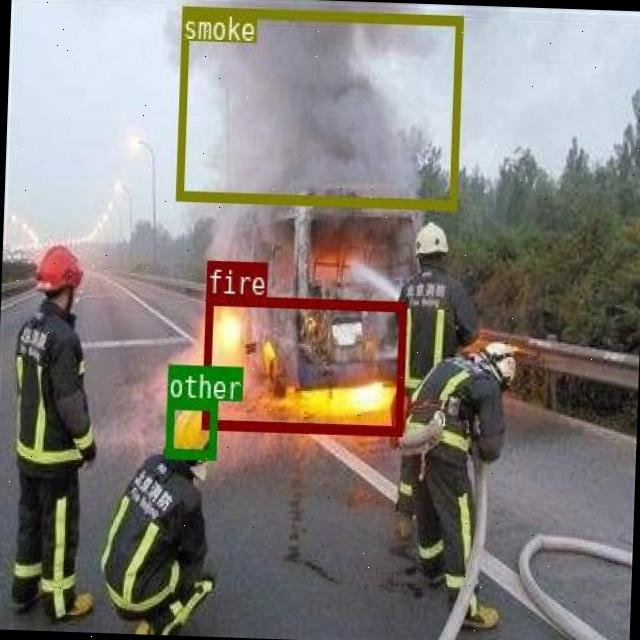fire: (200, 293, 404, 433)
smoke: (174, 5, 461, 207)
